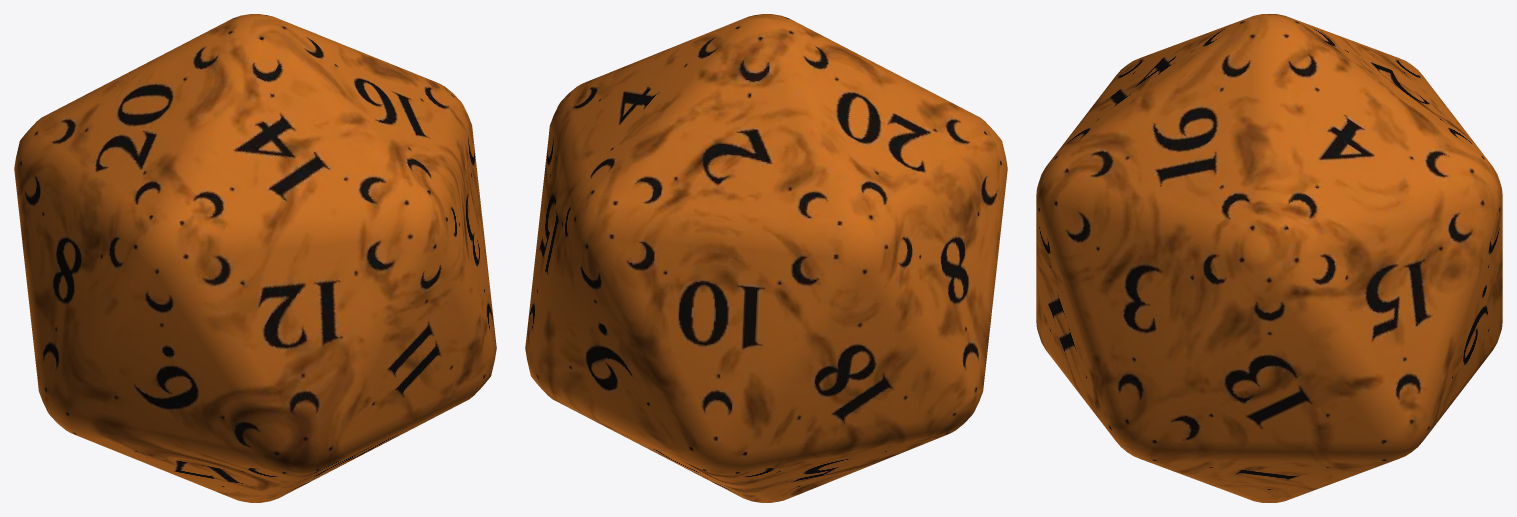
The model's file is khajiit-d20.glb.
3 renders of one model, left to right at view 1: azimuth 30°, elevation 25°; view 2: azimuth 150°, elevation 25°; view 3: azimuth 270°, elevation 25°, orthographic.
Parts seen in each view (by area): view 1: khajiit_d20; view 2: khajiit_d20; view 3: khajiit_d20.
Part boxes in pixels (x1,y1,x2,y2): khajiit_d20: (14,14,496,502); khajiit_d20: (525,14,1007,502); khajiit_d20: (1036,14,1502,502).
Bounding box in the file's own units: 1.74 × 1.9 × 1.67.
Materials: 1 (1 with a texture image).
